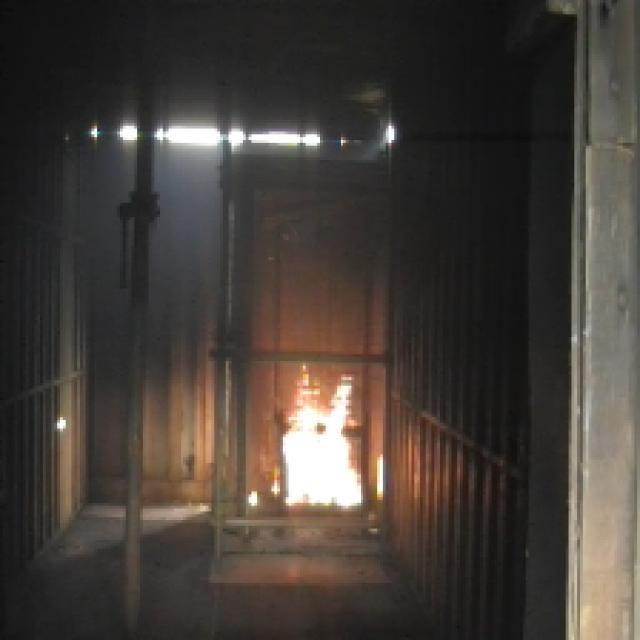Fire: (273, 363, 380, 480)
